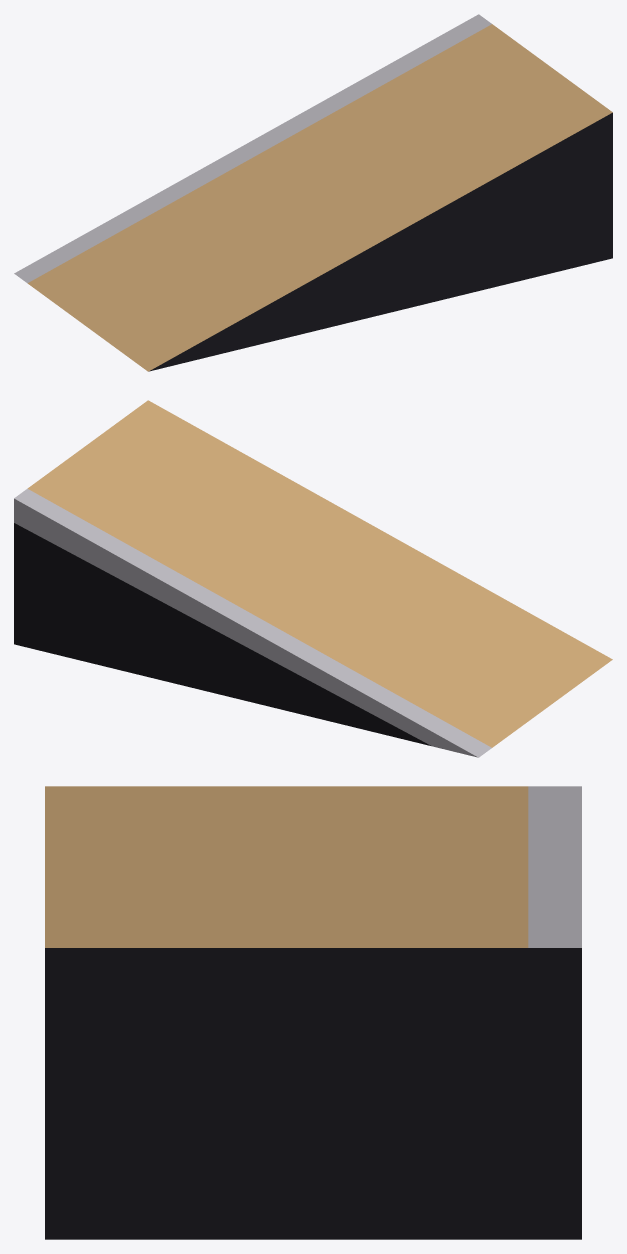
The model's file is Ramp_Half_3_Left.fbx.
3 renders of one model, top to bottom at view 1: azimuth 30°, elevation 25°; view 2: azimuth 150°, elevation 25°; view 3: azimuth 270°, elevation 25°, orthographic. The views are drawn at different scales.
Visible parts, largest first — view 1: Ramp_Half_3_Left; view 2: Ramp_Half_3_Left; view 3: Ramp_Half_3_Left.
Boxes of the visible parts, <box> form: Ramp_Half_3_Left: <box>14,14,612,371</box>; Ramp_Half_3_Left: <box>14,400,612,757</box>; Ramp_Half_3_Left: <box>45,786,581,1239</box>.
Bounding box in the file's own units: 10 × 3 × 5.
